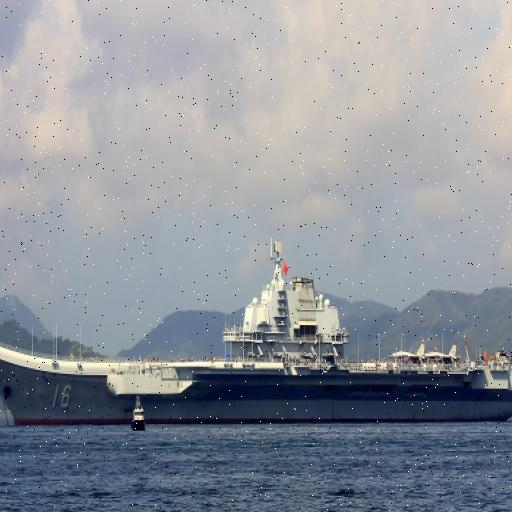Portanaves: (1, 227, 512, 437)
